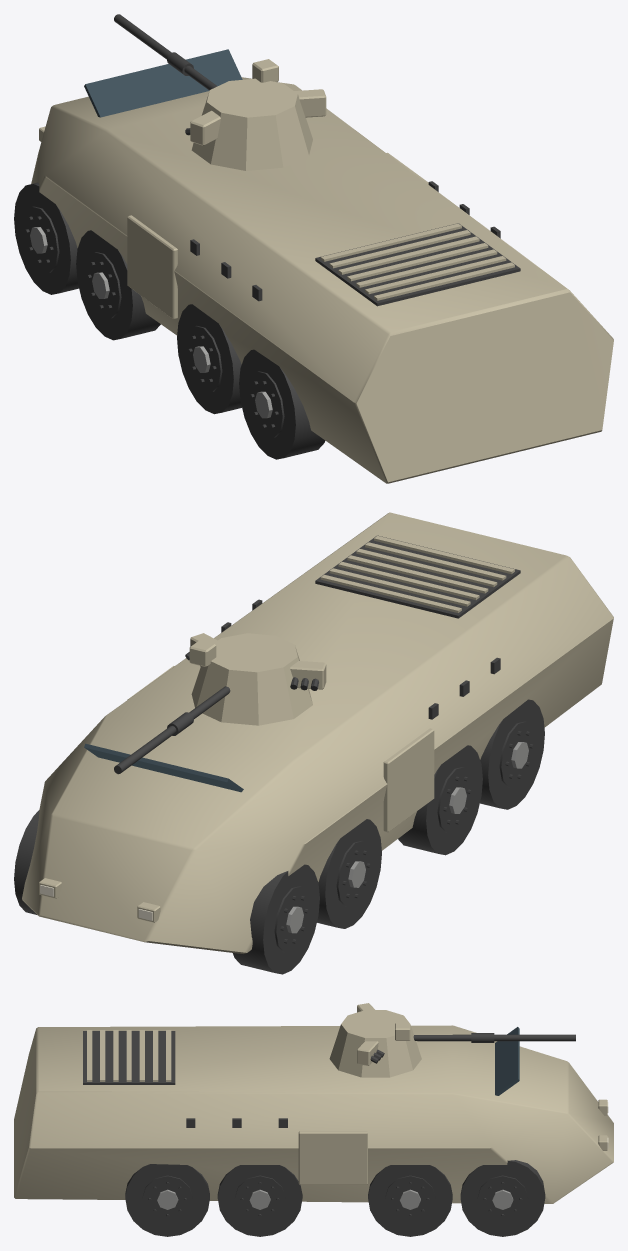
The model's file is rus_apc_btr82.glb.
The picture shows the model from 3 angles, top to bottom: view 1: azimuth 30°, elevation 25°; view 2: azimuth 150°, elevation 25°; view 3: azimuth 270°, elevation 25°; orthographic projection. The views are drawn at different scales.
Visible parts, largest first — view 1: body, turret, wheel_6, wheel_2, wheel_0, wheel_4, barrel; view 2: body, turret, wheel_0, wheel_4, wheel_6, wheel_2, barrel, wheel_1; view 3: body, wheel_1, turret, wheel_7, wheel_5, wheel_3, barrel.
Part boxes in pixels (x1,y1,x2,y2): body: (31,49,613,483); turret: (185,59,326,170); wheel_6: (239,349,325,459); wheel_2: (76,230,160,340); wheel_0: (14,182,78,294); wheel_4: (177,304,241,414); barrel: (114,14,217,90); body: (22,512,613,953); turret: (185,633,326,725); wheel_0: (233,864,319,974); wheel_4: (398,745,482,855); wheel_6: (480,699,544,809); wheel_2: (317,819,381,928); barrel: (114,686,230,774); wheel_1: (14,810,39,914); body: (14,1025,613,1203); wheel_1: (460,1160,545,1236); turret: (329,1003,421,1077); wheel_7: (125,1164,209,1236); wheel_5: (217,1165,302,1236); wheel_3: (368,1165,452,1236); barrel: (413,1033,575,1042).
Bounding box in the file's own units: 2.92 × 2.54 × 7.79.
